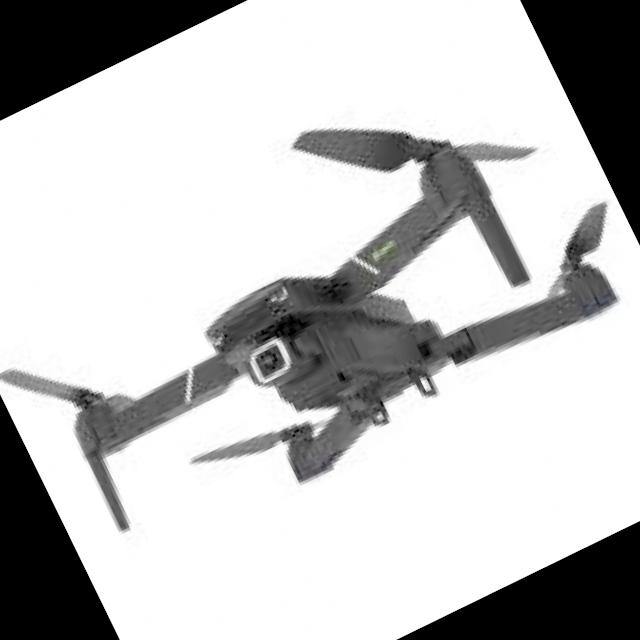drone: (0, 29, 640, 600)
